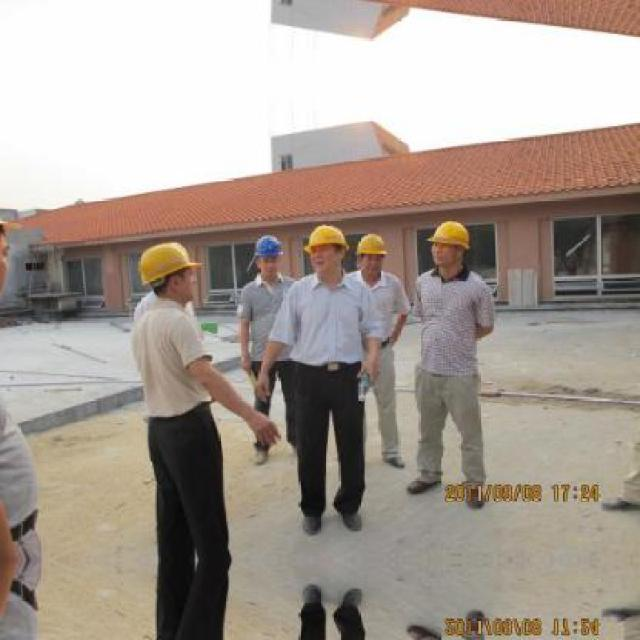helmet: (135, 237, 203, 305), (304, 220, 348, 278), (430, 218, 472, 271), (351, 230, 387, 278), (251, 233, 284, 278)
